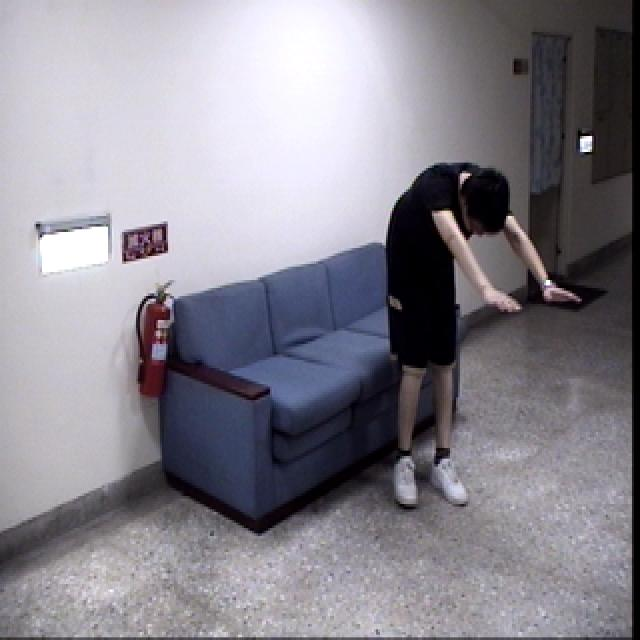bend: (380, 153, 583, 515)
